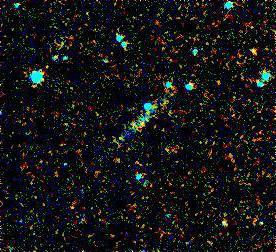star: (239, 38, 269, 68)
